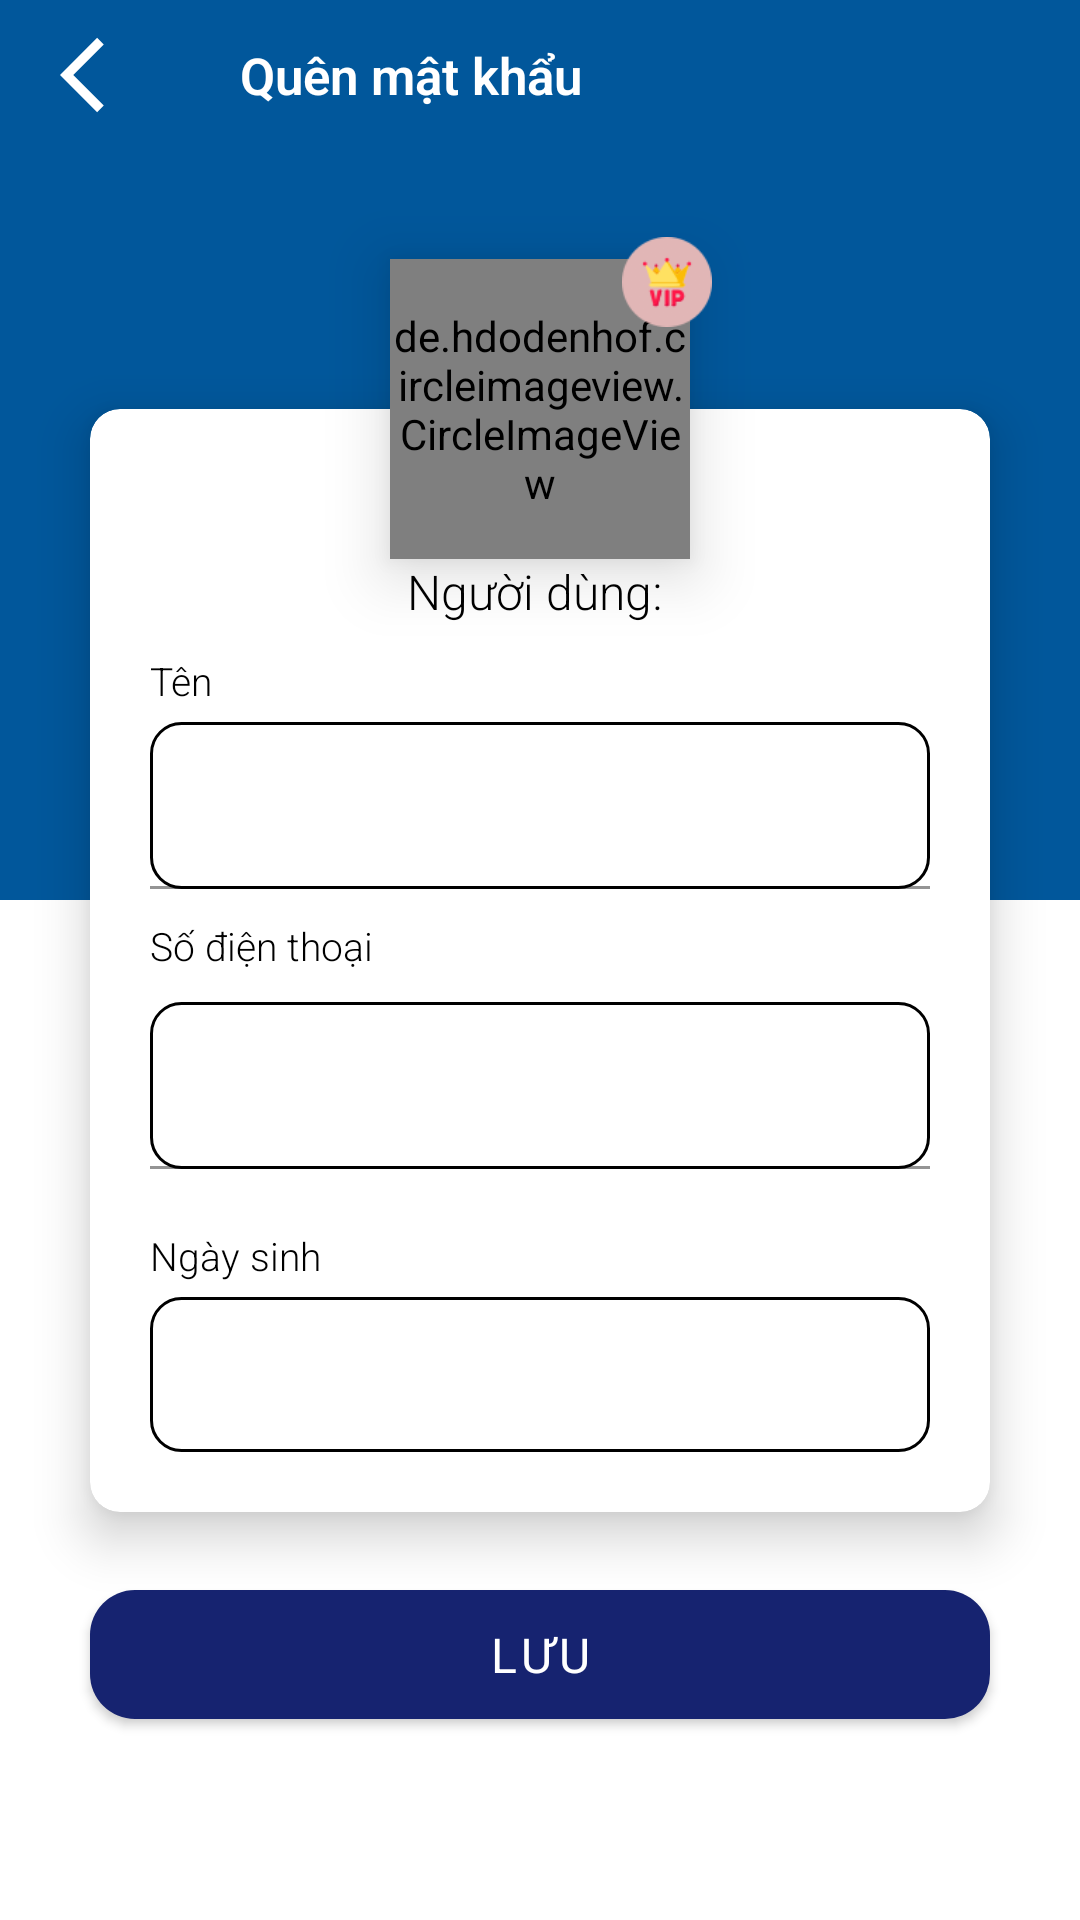

Icon bounding boxes for this 1080 × 1920 phone screenshot, format box=[x1, y1, x2, y2]:
back: box=[60, 38, 104, 112]
